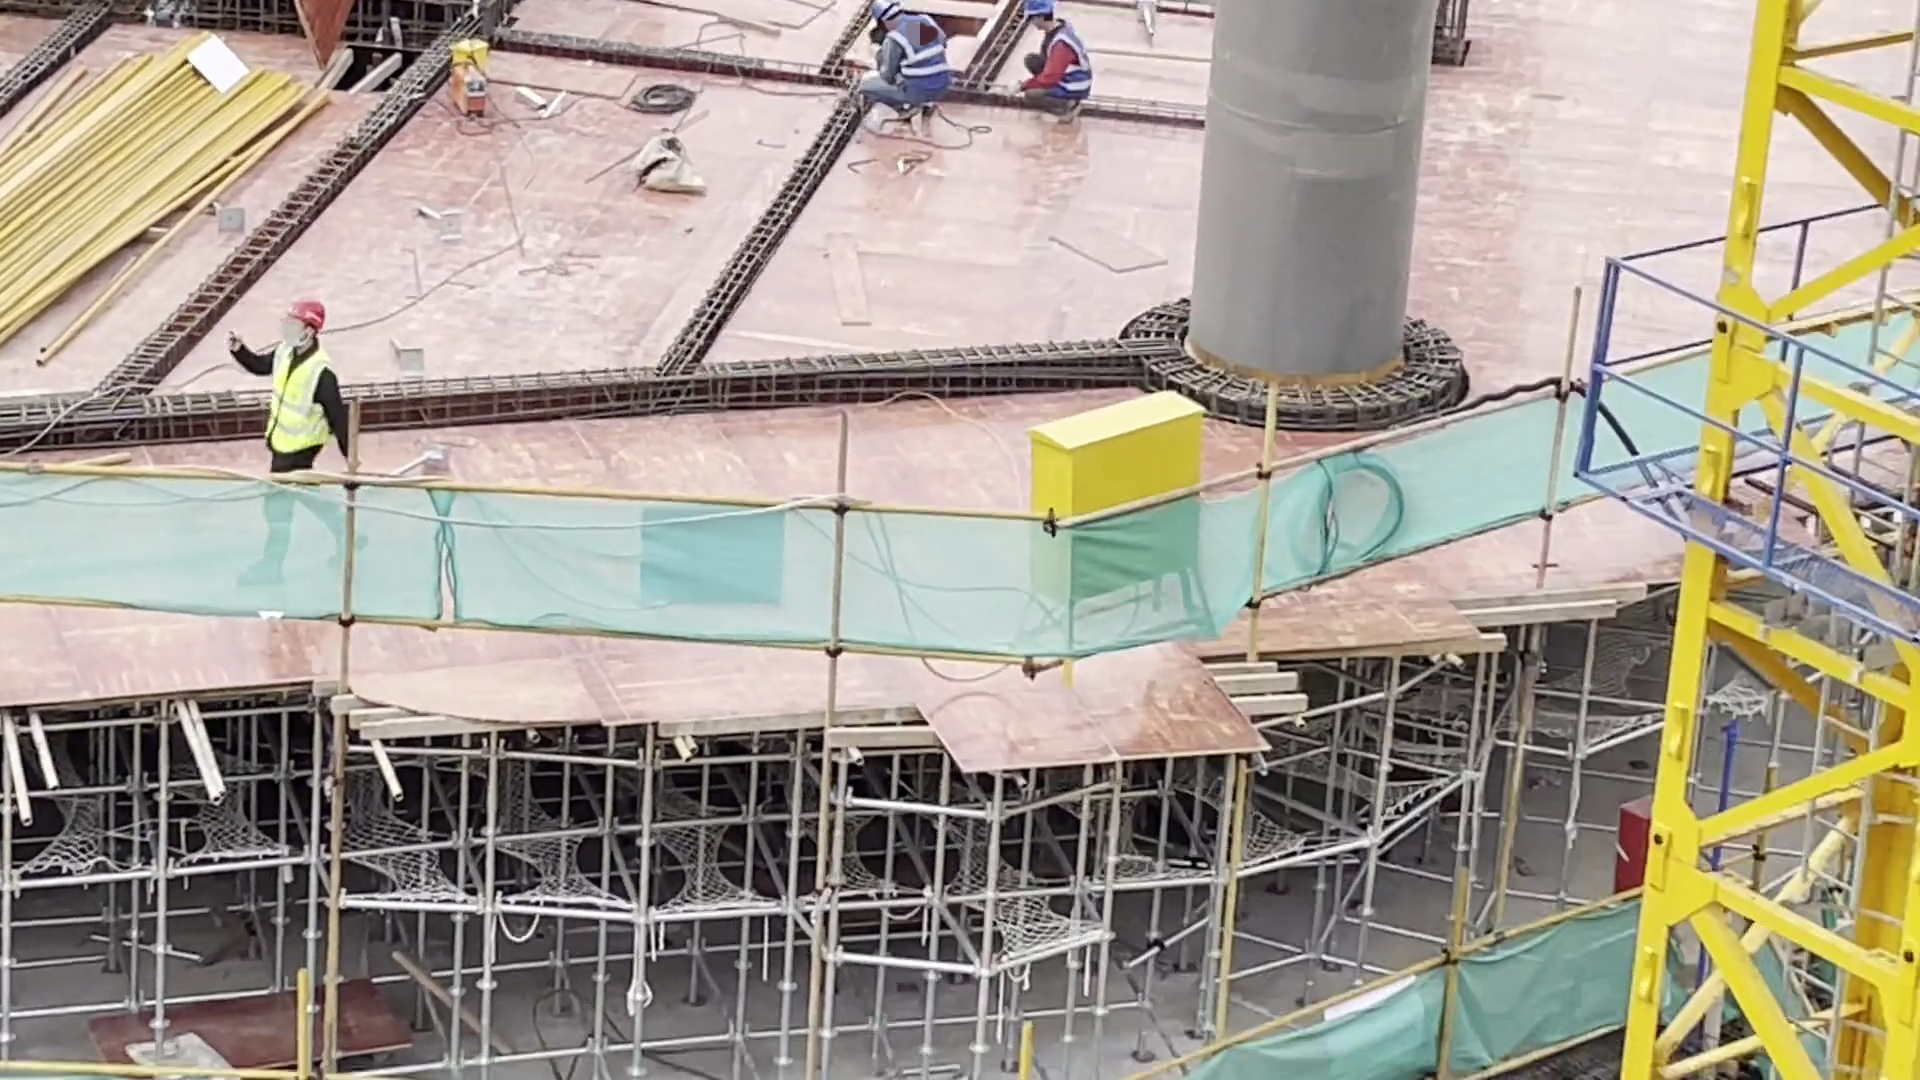ebox: (1020, 388, 1208, 683)
helmet: (288, 295, 327, 332), (870, 1, 902, 25), (1021, 1, 1054, 20)
person: (222, 292, 351, 474), (856, 1, 957, 136), (1006, 5, 1097, 130)
vest: (260, 341, 329, 457), (884, 19, 956, 103), (1037, 21, 1093, 101)
